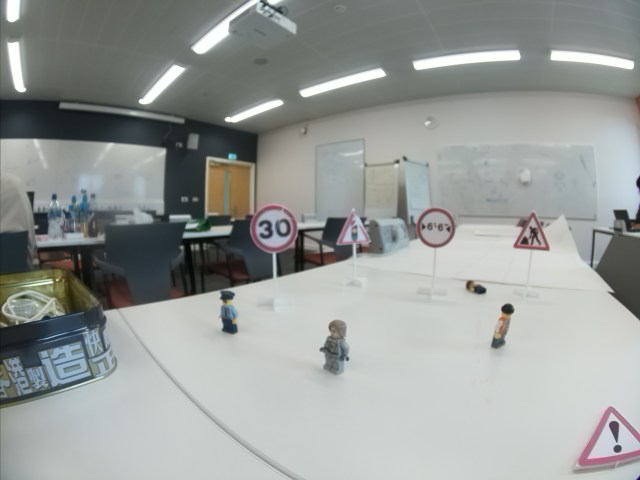30mph: (249, 204, 299, 252)
6ft6: (414, 207, 456, 249)
Lego Man: (317, 319, 353, 376), (492, 301, 518, 350), (218, 290, 240, 334), (464, 280, 489, 295)
Roadworks: (513, 212, 552, 248)
Traffic lights: (336, 207, 373, 247)
Warning: (574, 405, 640, 470)
